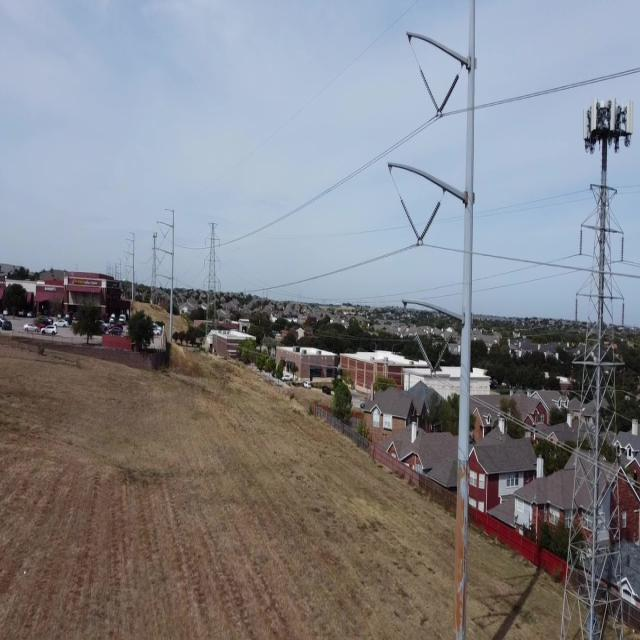杆塔: (556, 166, 640, 640), (198, 216, 228, 332)
正常绝缘子: (411, 52, 447, 123), (411, 191, 448, 259), (428, 67, 465, 129), (395, 185, 426, 253), (617, 296, 632, 345), (570, 289, 582, 338), (616, 228, 630, 269), (574, 223, 587, 267)
